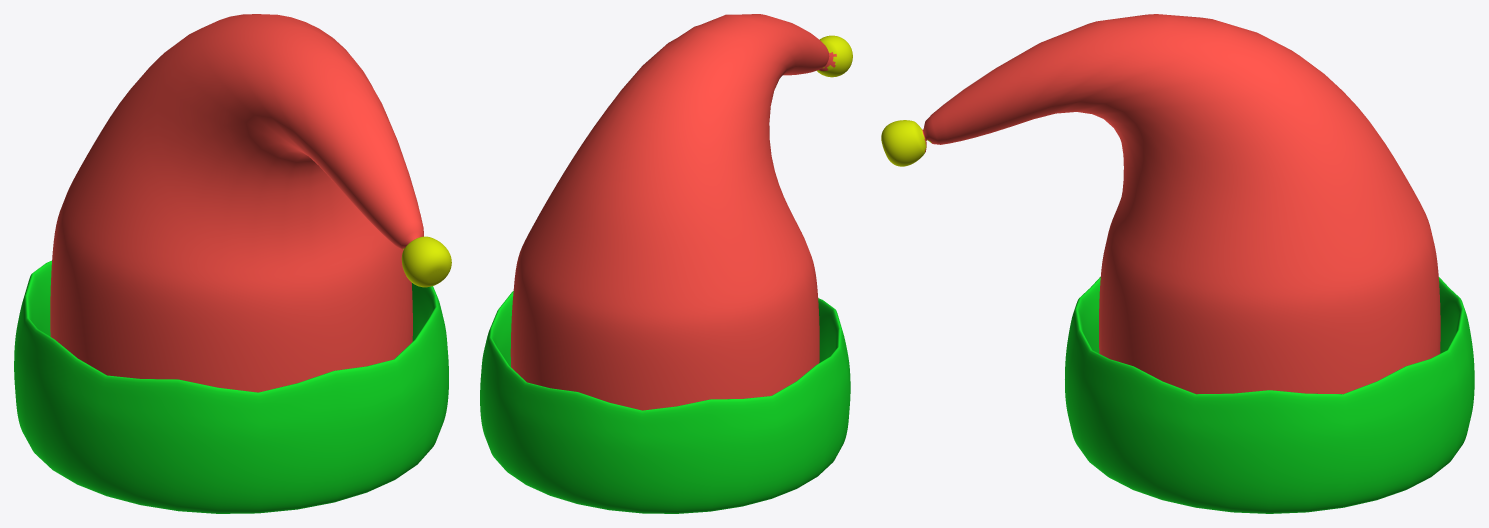
Rendered from HAT.glb.
The picture shows the model from 3 angles, left to right: view 1: azimuth 30°, elevation 25°; view 2: azimuth 150°, elevation 25°; view 3: azimuth 270°, elevation 25°; orthographic projection. The views are drawn at different scales.
Visible parts, largest first — view 1: BezierCurve.008; view 2: BezierCurve.008; view 3: BezierCurve.008.
Part boxes in pixels (x1,y1,x2,y2): BezierCurve.008: (14, 14, 451, 513); BezierCurve.008: (480, 14, 852, 513); BezierCurve.008: (881, 14, 1474, 513).
Size of the model in its own units: 6.61 by 7.35 by 9.57.
